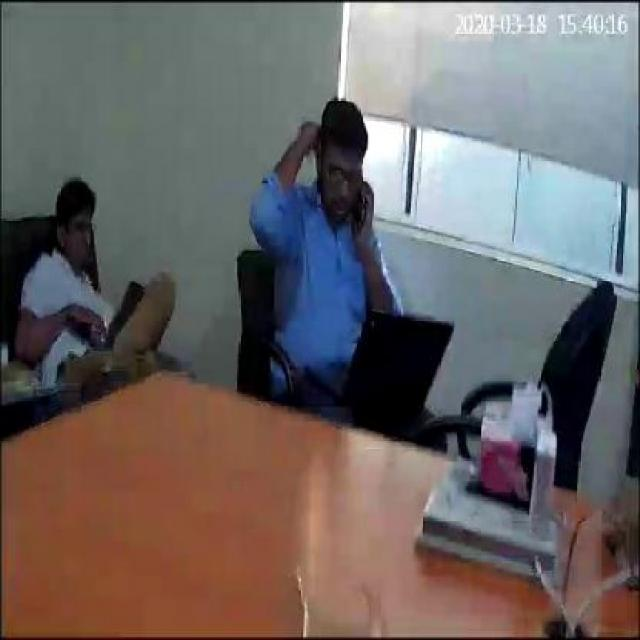spill: (290, 555, 382, 637)
